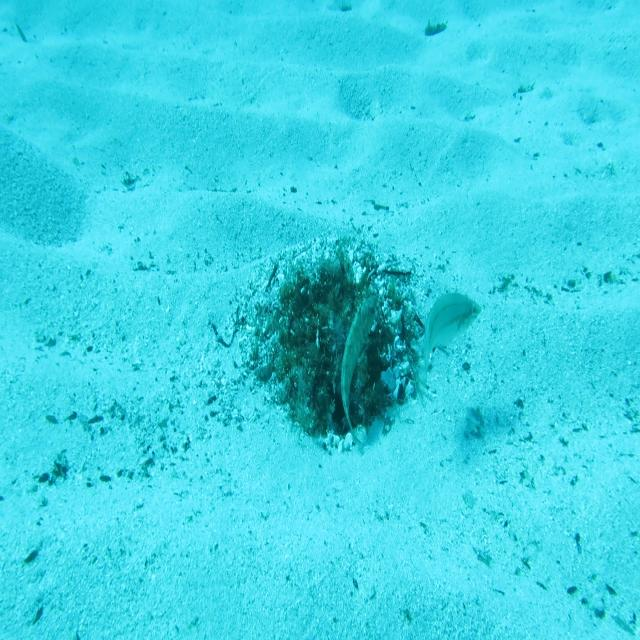LF: (336, 290, 381, 454)
core_nest: (313, 288, 357, 325)
female: (413, 291, 483, 400)
nest: (226, 212, 447, 465)
vegetation: (422, 22, 447, 38)
